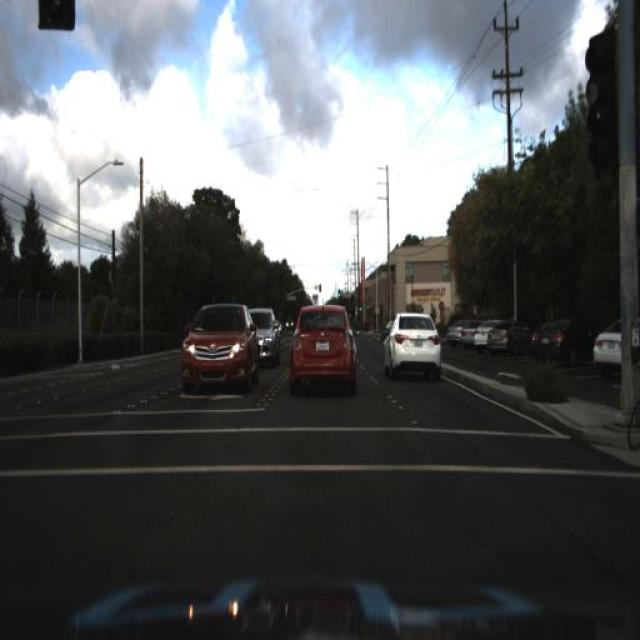car: (176, 293, 259, 395), (288, 300, 358, 400), (381, 305, 444, 385), (528, 314, 592, 362), (247, 301, 282, 371), (593, 318, 635, 372), (489, 316, 520, 352), (476, 312, 490, 350)
